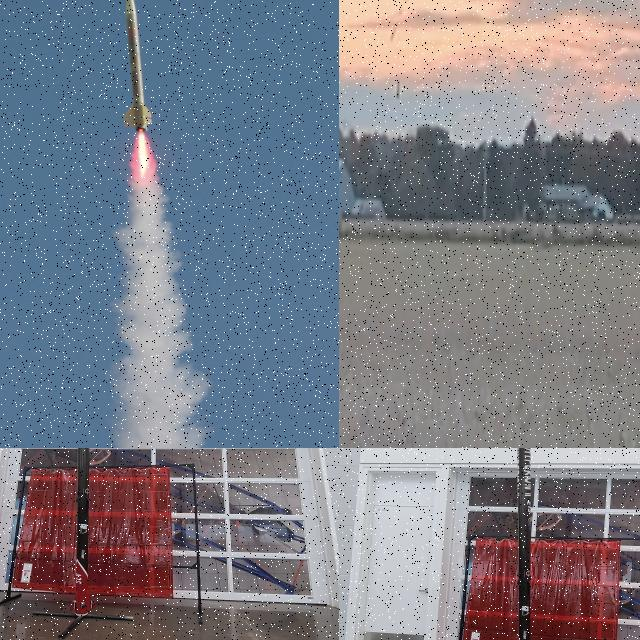Rocket: (70, 448, 96, 615), (122, 0, 153, 132), (517, 448, 531, 640), (396, 79, 400, 100)
